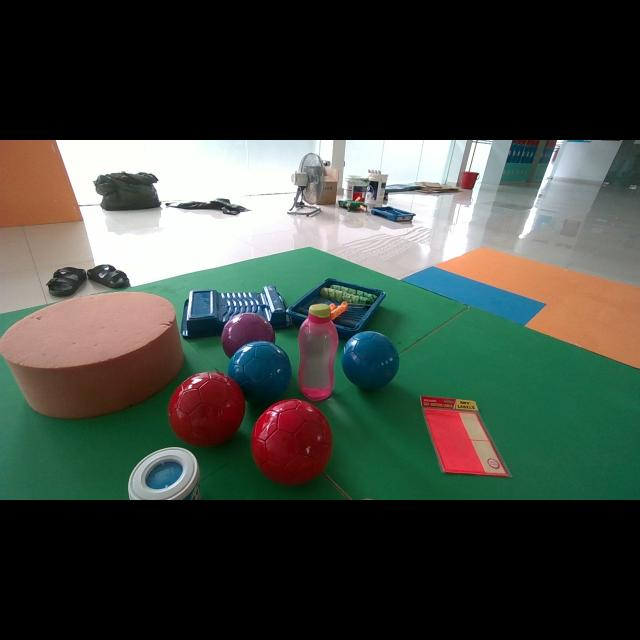B: (228, 341, 291, 403), (341, 331, 399, 390)
P: (221, 312, 275, 358)
R: (251, 399, 332, 485), (168, 371, 245, 446)
